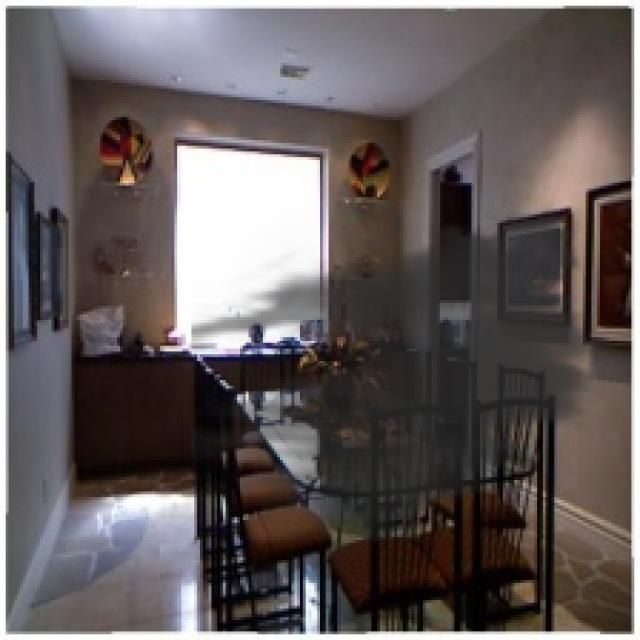smoke: (192, 197, 617, 554)
